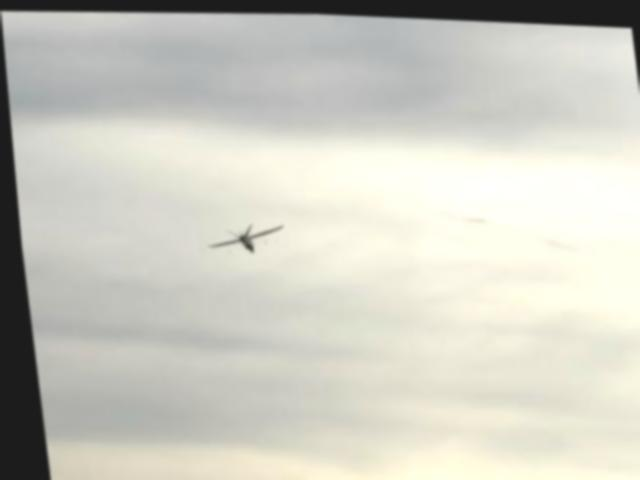uav: (189, 206, 292, 269)
